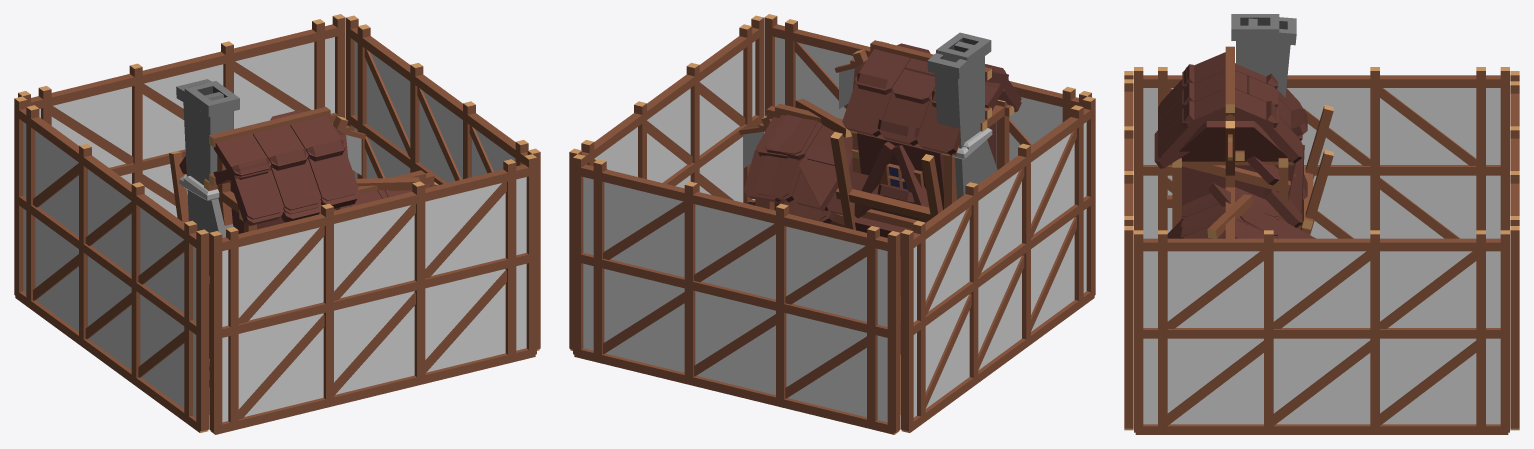
The model's file is House 1.fbx.
3 views of the same model, side by side, from view 1: azimuth 30°, elevation 25°; view 2: azimuth 150°, elevation 25°; view 3: azimuth 270°, elevation 25° (orthographic).
Parts seen in each view (by area): view 1: Scaffold, Destruction_phase_1, Destruction_phase_3, Destruction_phase_2, Flag_2; view 2: Scaffold, Destruction_phase_3, Destruction_phase_2, Destruction_phase_1, Roof; view 3: Scaffold, Destruction_phase_3, Destruction_phase_2, Destruction_phase_1, Roof.
Boxes of the visible parts, x1=… form: Scaffold: x1=14, y1=14, x2=540, y2=434; Destruction_phase_1: x1=179, y1=81, x2=417, y2=275; Destruction_phase_3: x1=169, y1=79, x2=438, y2=372; Destruction_phase_2: x1=182, y1=110, x2=425, y2=233; Flag_2: x1=346, y1=135, x2=361, y2=175; Scaffold: x1=569, y1=14, x2=1095, y2=434; Destruction_phase_3: x1=739, y1=41, x2=1021, y2=354; Destruction_phase_2: x1=752, y1=43, x2=1008, y2=229; Destruction_phase_1: x1=755, y1=32, x2=1021, y2=223; Roof: x1=792, y1=58, x2=935, y2=210; Scaffold: x1=1124, y1=67, x2=1519, y2=434; Destruction_phase_3: x1=1154, y1=17, x2=1333, y2=238; Destruction_phase_2: x1=1158, y1=64, x2=1307, y2=238; Destruction_phase_1: x1=1158, y1=14, x2=1302, y2=238; Roof: x1=1235, y1=70, x2=1302, y2=235.
Bounding box in the file's own units: 4.1 × 3.26 × 4.1.
